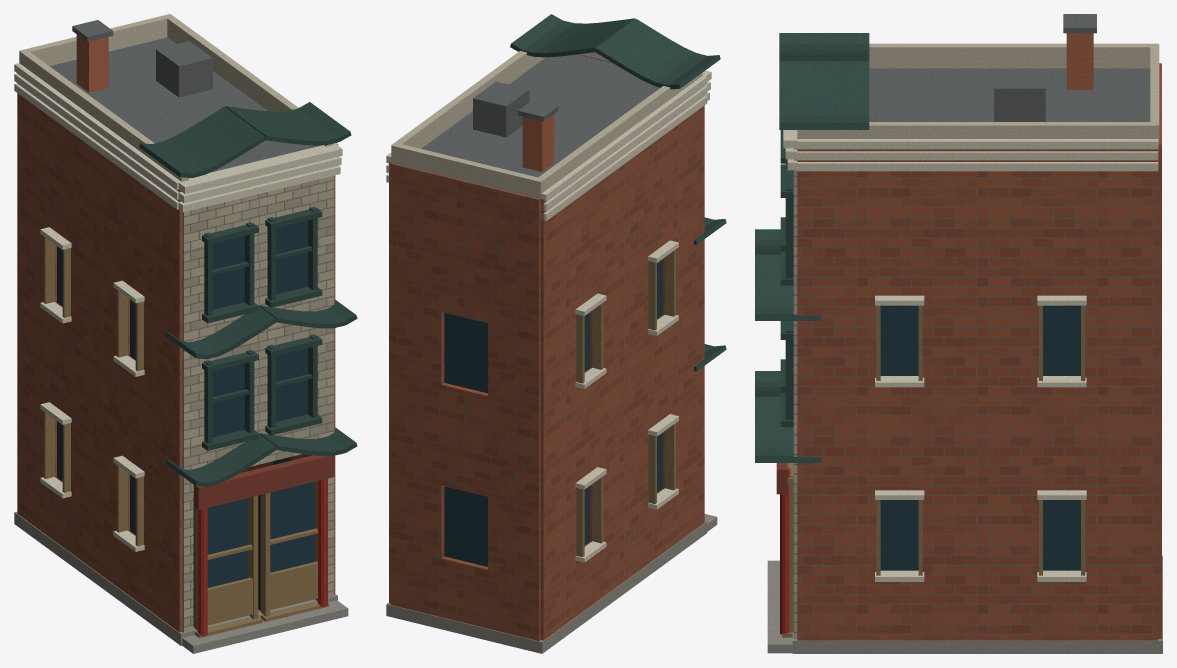
Rendered from CHINA12_lod2.glb.
3 renders of one model, left to right at view 1: azimuth 30°, elevation 25°; view 2: azimuth 150°, elevation 25°; view 3: azimuth 270°, elevation 25°, orthographic. The views are drawn at different scales.
Visible parts, largest first — view 1: CHINA12_LOD2; view 2: CHINA12_LOD2; view 3: CHINA12_LOD2.
Boxes of the visible parts, x1,y1,x2,y2 form: CHINA12_LOD2: (14,14,357,653); CHINA12_LOD2: (386,14,726,653); CHINA12_LOD2: (755,14,1162,653).
Size of the model in its own units: 3.71 by 10.45 by 6.78.
Materials: 13 (11 with a texture image).
